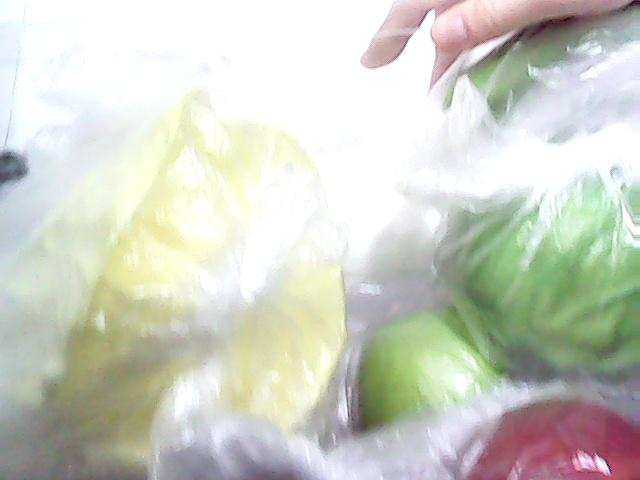apple: (348, 303, 504, 437), (426, 396, 640, 480)
cabbage: (438, 168, 640, 392)
napa cabbage: (0, 155, 356, 440)
pepper: (435, 1, 640, 130)
